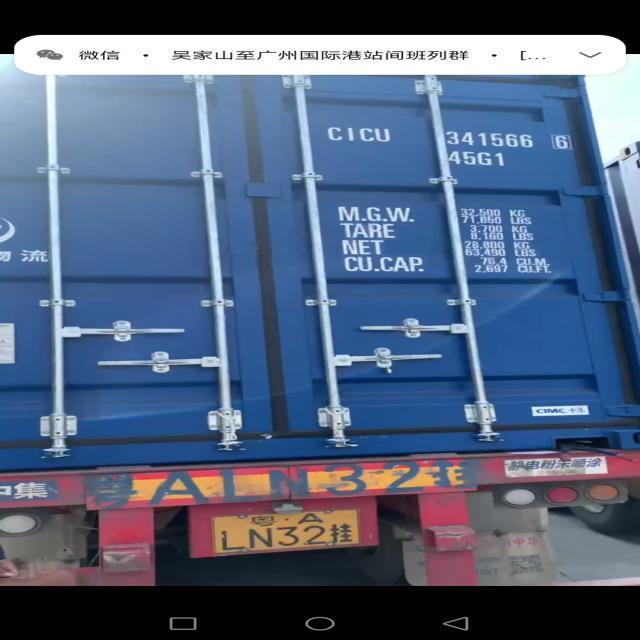ISO: (451, 150, 506, 168)
container_number: (321, 122, 573, 147)
